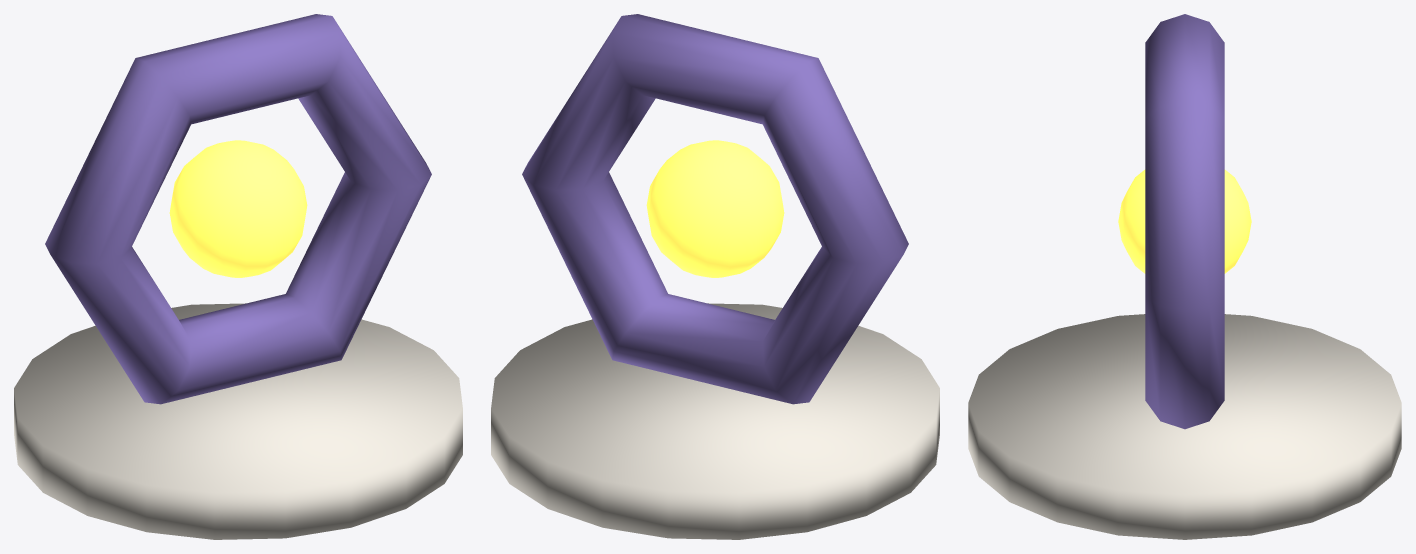
The model's file is Diagram_ApiGatewayNode.fbx.
3 renders of one model, left to right at view 1: azimuth 30°, elevation 25°; view 2: azimuth 150°, elevation 25°; view 3: azimuth 270°, elevation 25°, orthographic. The views are drawn at different scales.
Visible parts, largest first — view 1: Gateway_Arch, Node_Plinth, Gateway_Core; view 2: Gateway_Arch, Node_Plinth, Gateway_Core; view 3: Node_Plinth, Gateway_Arch, Gateway_Core.
Part boxes in pixels (x1,y1,x2,y2): Gateway_Arch: (45,14,431,404); Node_Plinth: (14,303,462,539); Gateway_Core: (169,140,307,277); Gateway_Arch: (522,14,908,404); Node_Plinth: (491,303,939,539); Gateway_Core: (646,140,784,277); Node_Plinth: (968,314,1401,539); Gateway_Arch: (1145,14,1224,429); Gateway_Core: (1118,169,1251,273).
Bounding box in the file's own units: 5.2 × 5.17 × 5.2.
